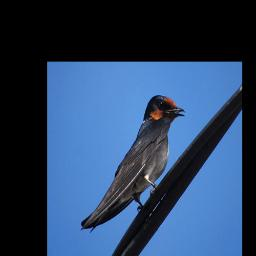Swallow: (80, 95, 185, 230)
